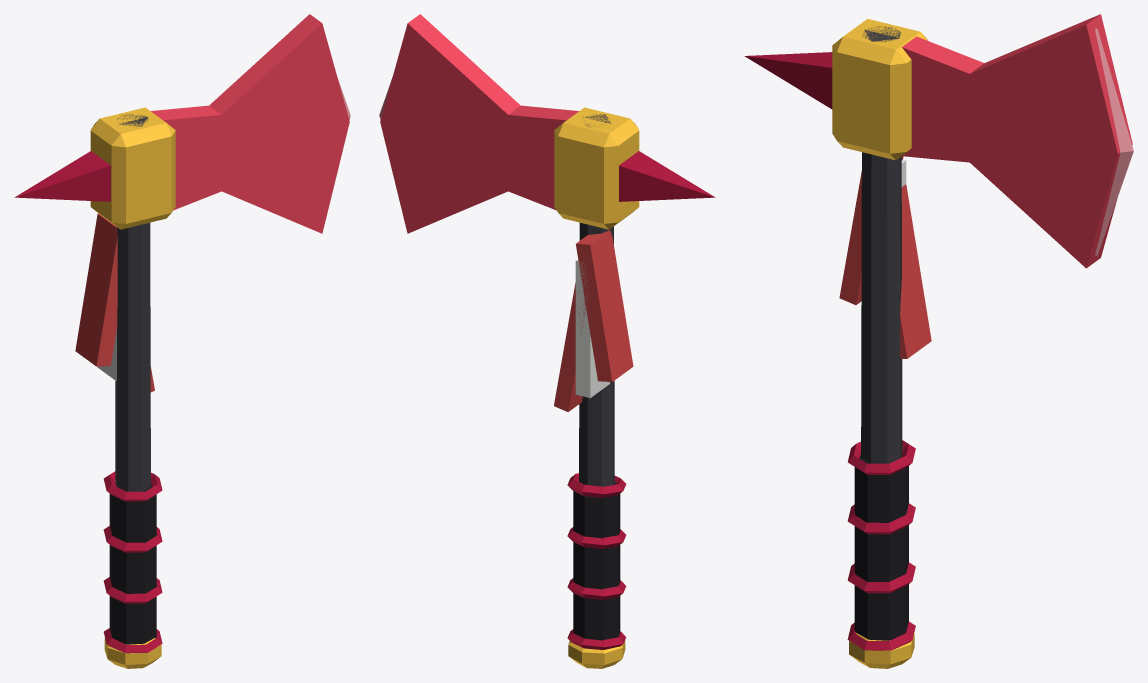
File: RubyTomahawk.fbx
3 views of the same model, side by side, from view 1: azimuth 30°, elevation 25°; view 2: azimuth 150°, elevation 25°; view 3: azimuth 330°, elevation 25° (orthographic). The views are drawn at different scales.
Visible parts, largest first — view 1: RubyTomahawk; view 2: RubyTomahawk; view 3: RubyTomahawk.
Boxes of the visible parts, x1,y1,x2,y2 form: RubyTomahawk: (14, 14, 350, 668); RubyTomahawk: (379, 14, 715, 668); RubyTomahawk: (744, 14, 1133, 668).
Size of the model in its own units: 1.84 by 3.12 by 0.35.
1 material, 1 textured.
